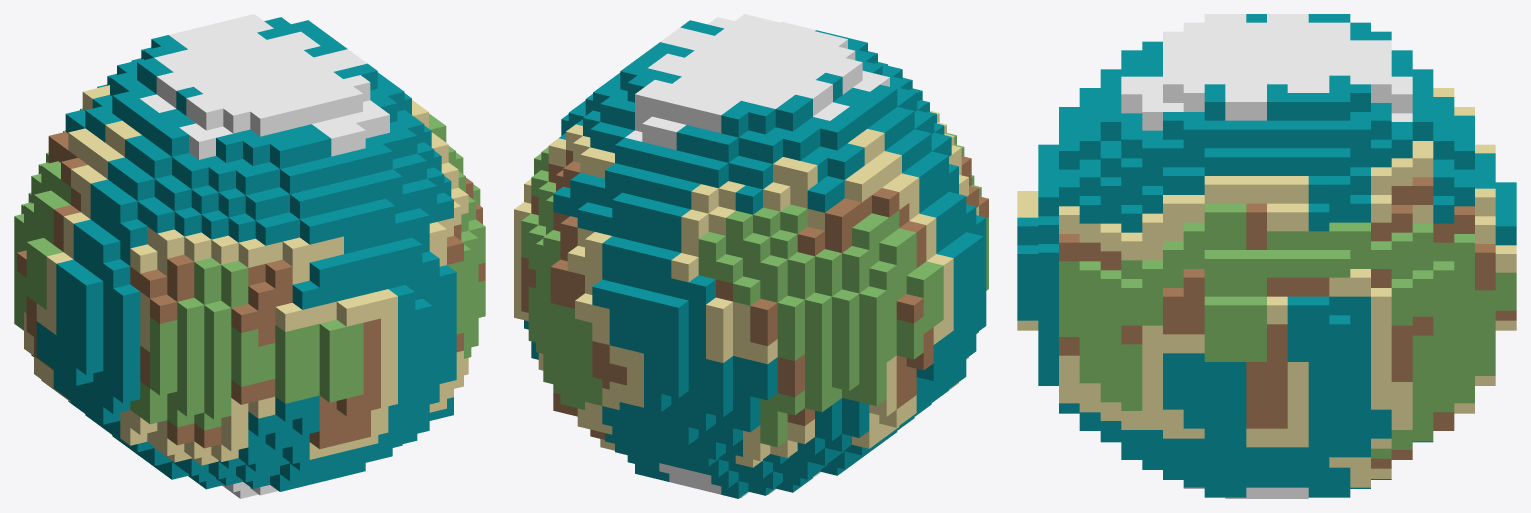
The model's file is planet_3.obj.
The picture shows the model from 3 angles, left to right: view 1: azimuth 30°, elevation 25°; view 2: azimuth 150°, elevation 25°; view 3: azimuth 270°, elevation 25°; orthographic projection. The views are drawn at different scales.
Size of the model in its own units: 23 by 22 by 24.
Materials: 1 (1 with a texture image).
